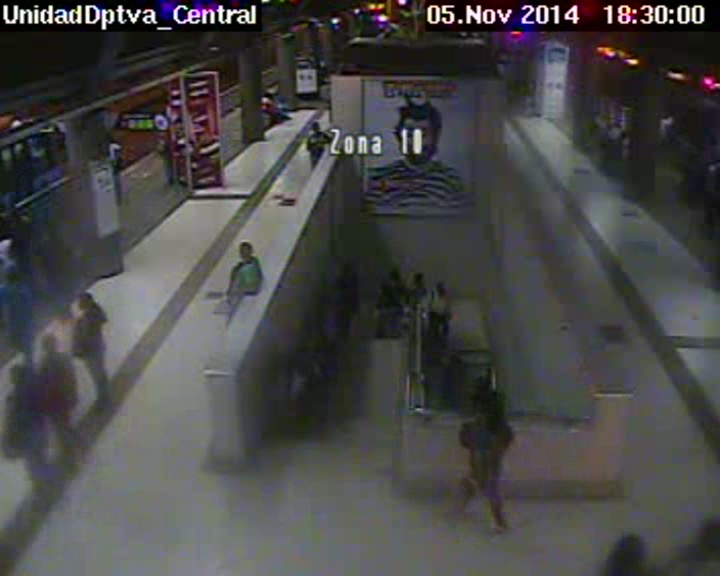person: (6, 365, 29, 387), (482, 394, 505, 416), (40, 332, 62, 354), (75, 290, 97, 310), (239, 240, 257, 260), (6, 268, 26, 285), (386, 268, 402, 284), (411, 270, 426, 287), (434, 280, 448, 295), (341, 260, 355, 273), (310, 121, 322, 134), (1, 224, 12, 237), (157, 133, 167, 143), (264, 91, 272, 99)
